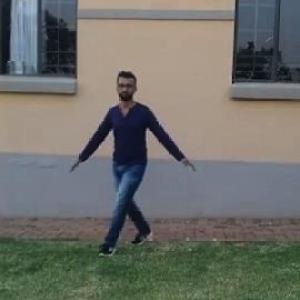land: (62, 70, 198, 249)
